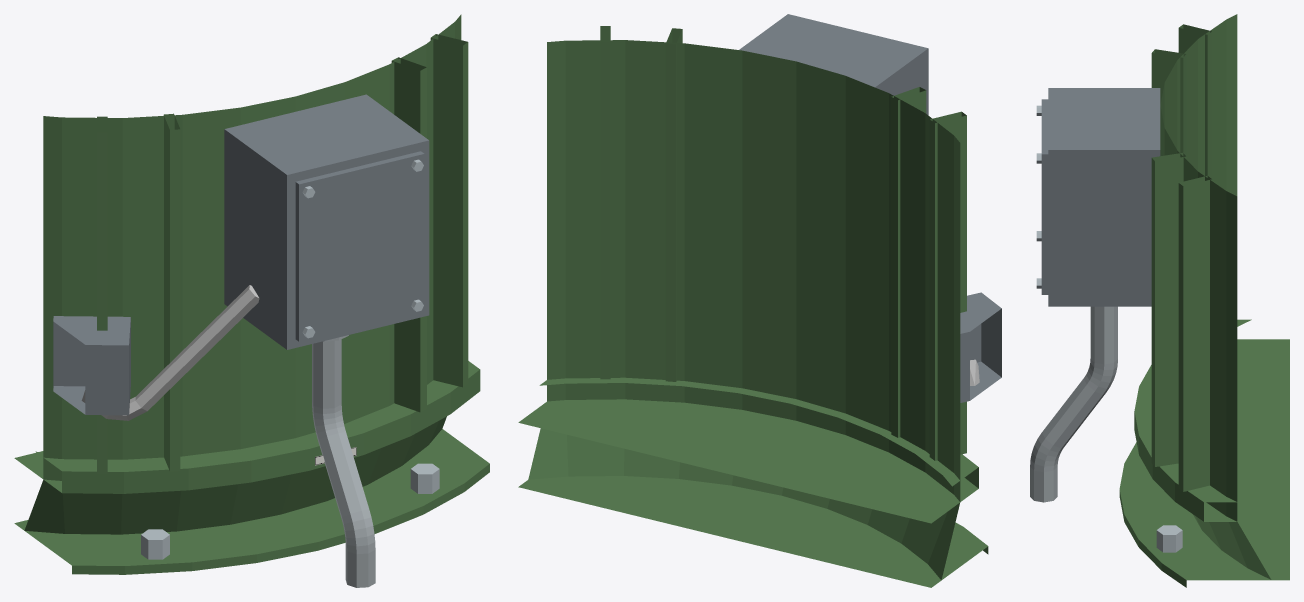
The model's file is cell_42.obj.
3 renders of one model, left to right at view 1: azimuth 30°, elevation 25°; view 2: azimuth 150°, elevation 25°; view 3: azimuth 270°, elevation 25°, orthographic. The views are drawn at different scales.
Size of the model in its own units: 1 by 1 by 0.6018.
